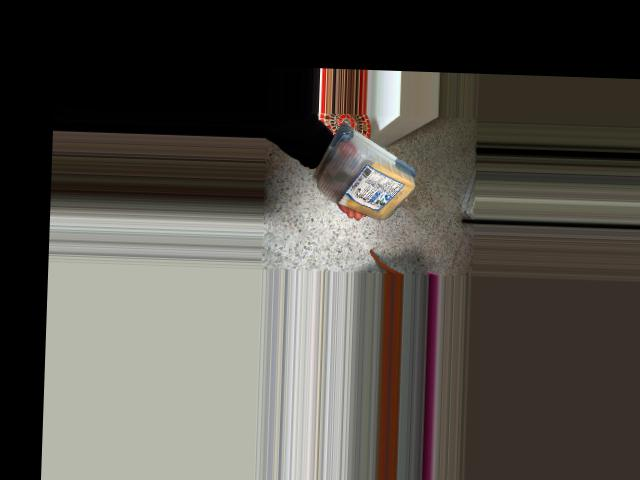cheese: (307, 116, 424, 229)
